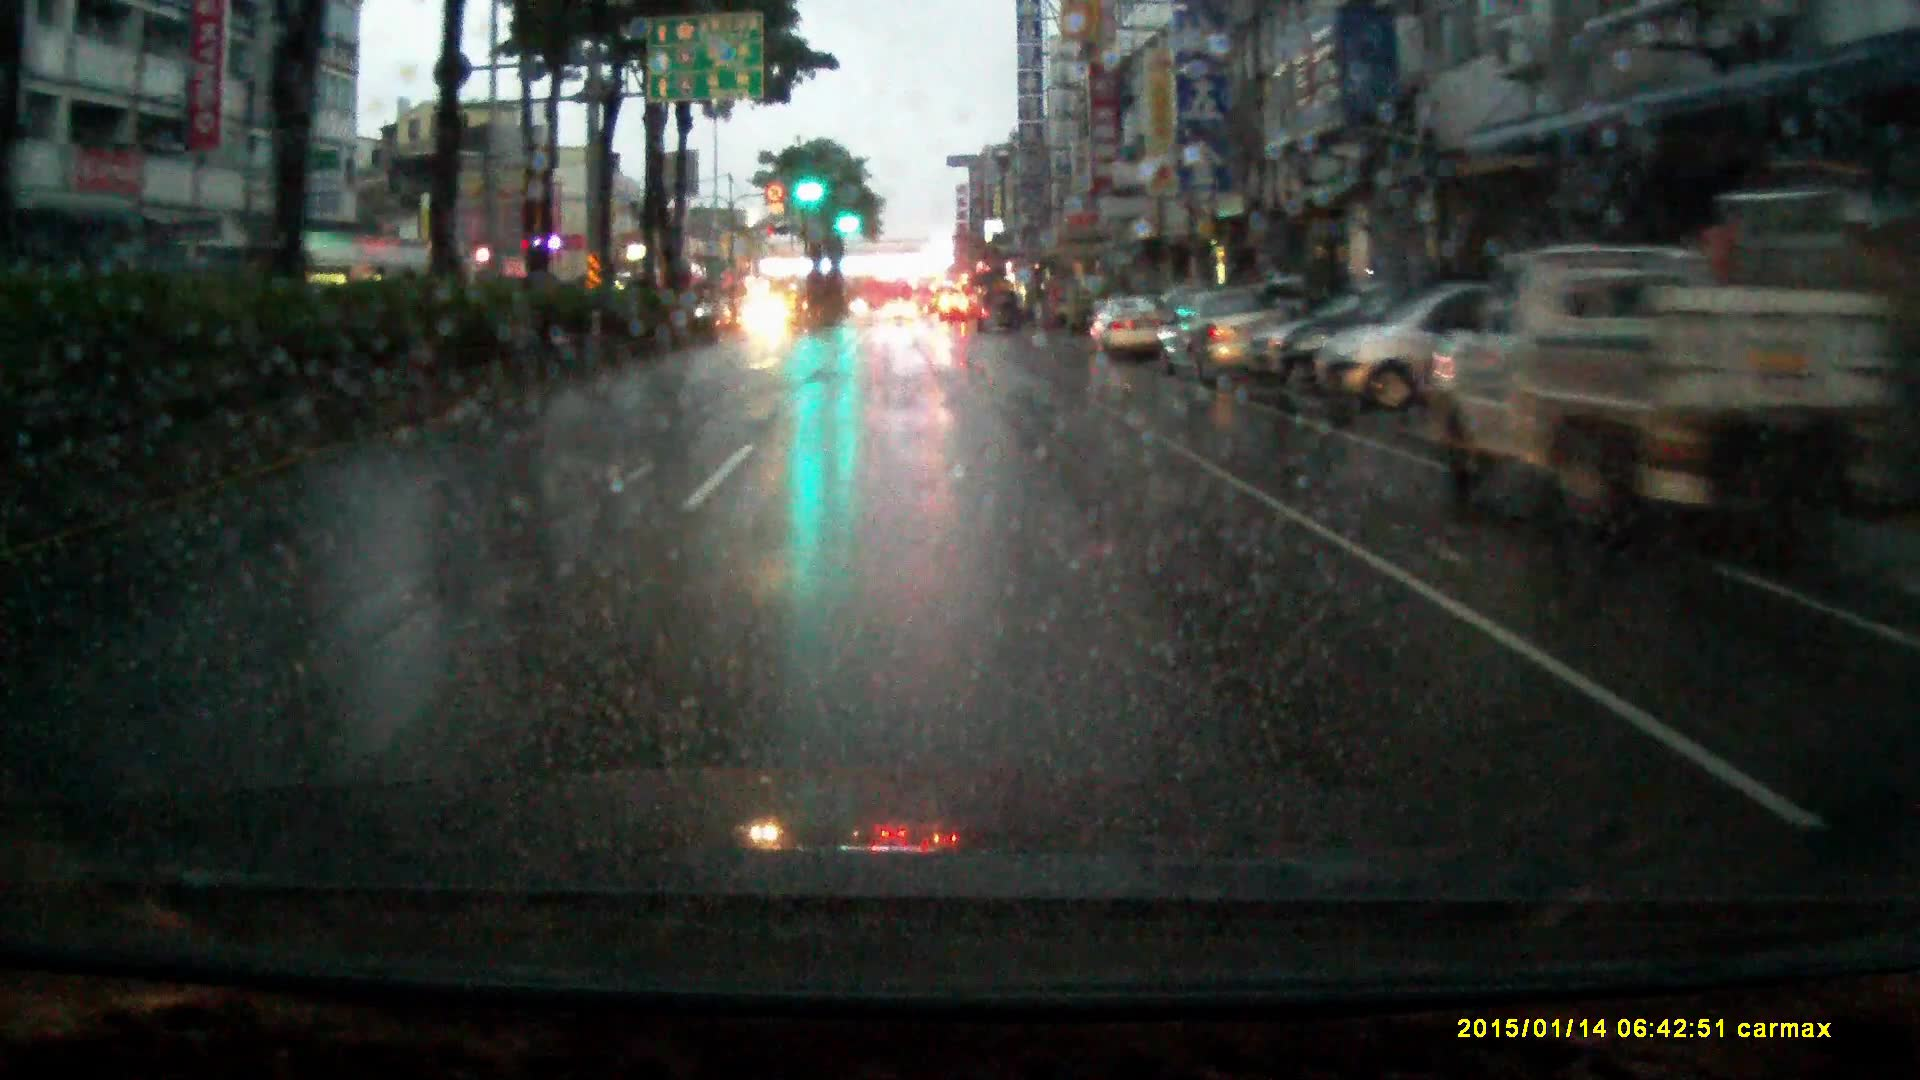vehicle: (1418, 249, 1920, 591), (1316, 287, 1528, 419), (1154, 295, 1305, 402), (1092, 305, 1164, 372), (973, 297, 1027, 342), (742, 301, 795, 344), (939, 301, 971, 330), (914, 284, 939, 319), (886, 305, 916, 324)
